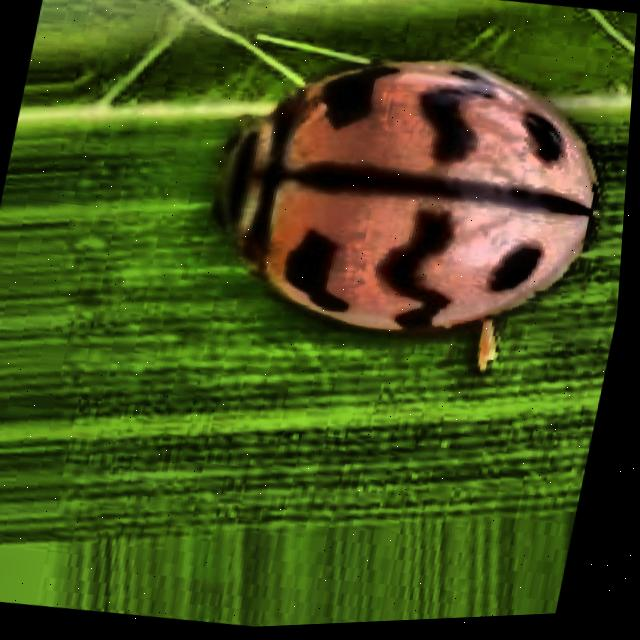Asian-Lady-beetle: (164, 0, 637, 430)
